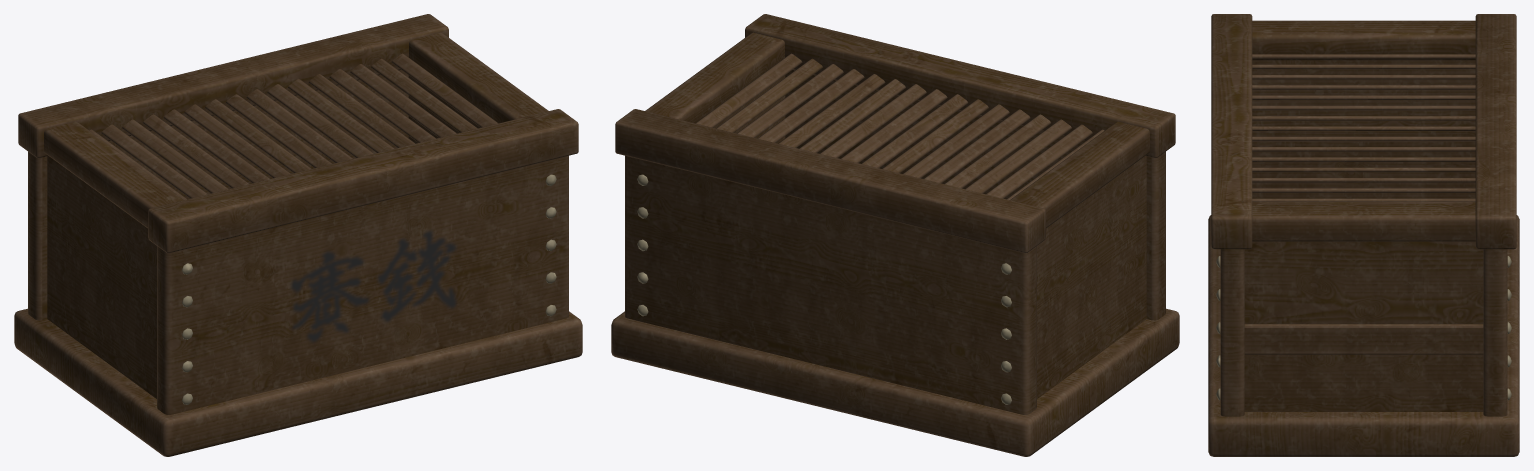
File: OfferingBox.fbx
The picture shows the model from 3 angles, left to right: view 1: azimuth 30°, elevation 25°; view 2: azimuth 150°, elevation 25°; view 3: azimuth 270°, elevation 25°; orthographic projection.
Parts seen in each view (by area): view 1: OfferingBox; view 2: OfferingBox; view 3: OfferingBox.
Part boxes in pixels (box(x1,y1,x2,y2)): OfferingBox: box(14, 14, 582, 456); OfferingBox: box(611, 14, 1179, 456); OfferingBox: box(1208, 14, 1519, 456).
Bounding box in the file's own units: 1.62 × 0.8675 × 1.02.
